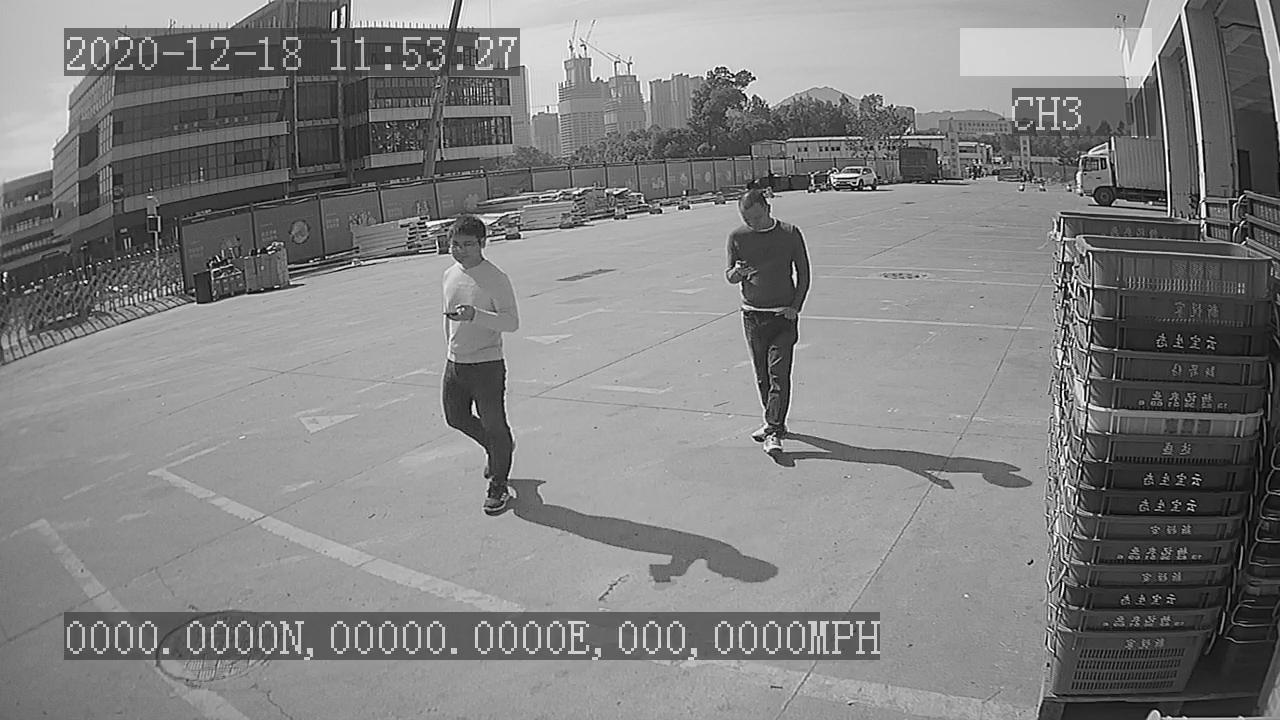person: (420, 210, 526, 522), (718, 181, 818, 469)
